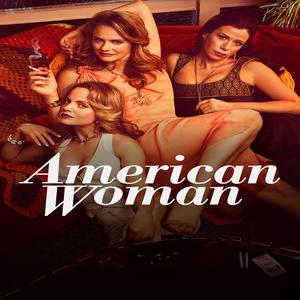cigarette: (27, 64, 43, 75)
